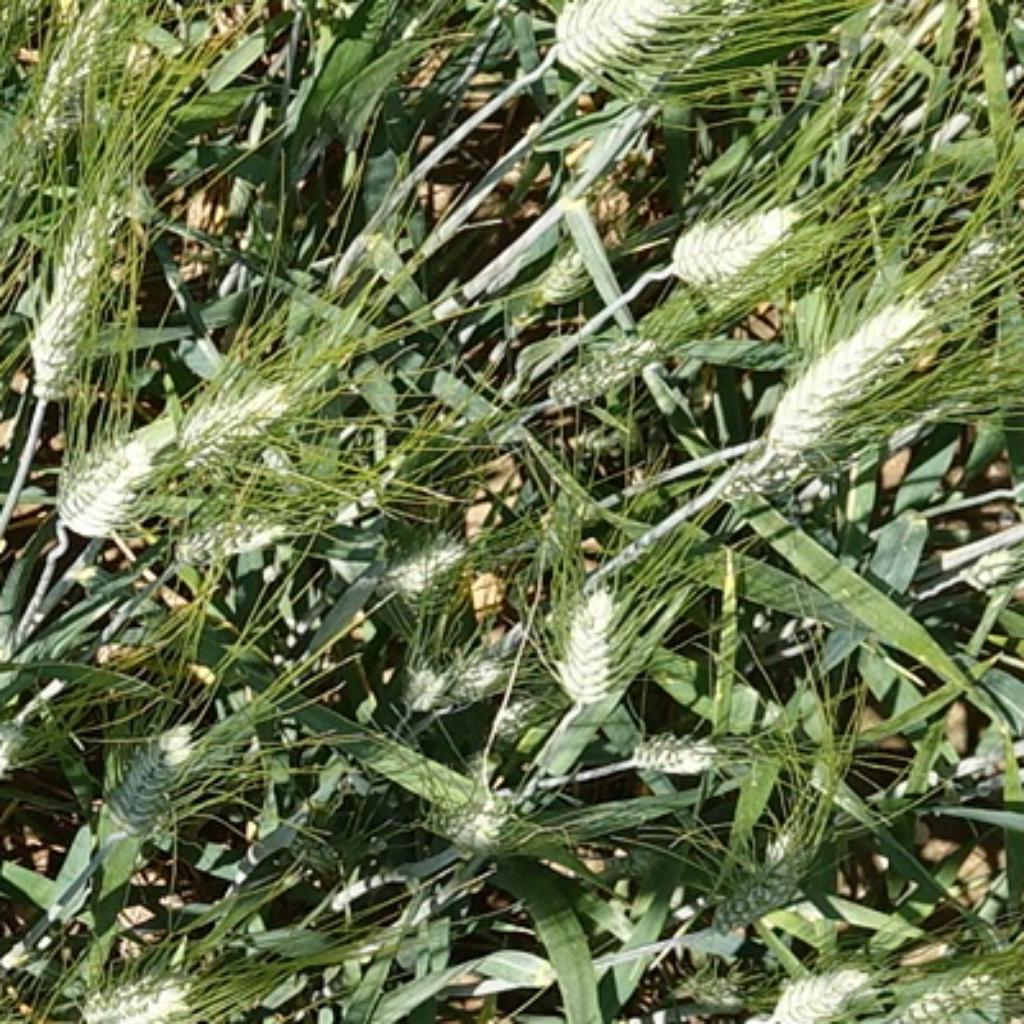0-0: (775, 296, 951, 475), (21, 198, 141, 398), (657, 184, 826, 302), (166, 366, 330, 471), (40, 407, 163, 537), (97, 717, 204, 844), (31, 4, 118, 152), (537, 2, 704, 77), (381, 517, 494, 622), (163, 481, 296, 565), (890, 947, 1016, 1024), (555, 583, 631, 704), (762, 947, 878, 1024), (710, 841, 806, 933), (69, 964, 205, 1024), (412, 783, 529, 852), (547, 333, 653, 407), (455, 627, 545, 709), (957, 529, 1024, 601), (533, 235, 591, 313), (396, 629, 450, 709), (629, 724, 718, 772)
